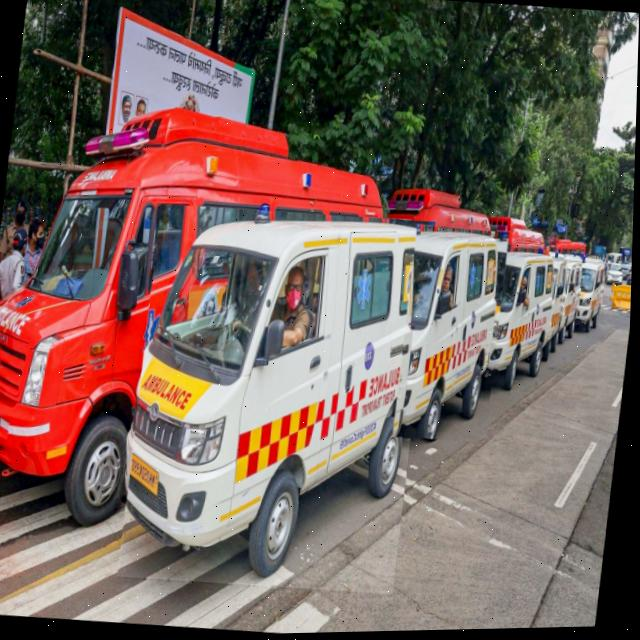Ambulance: (120, 200, 437, 602), (395, 227, 510, 447)
